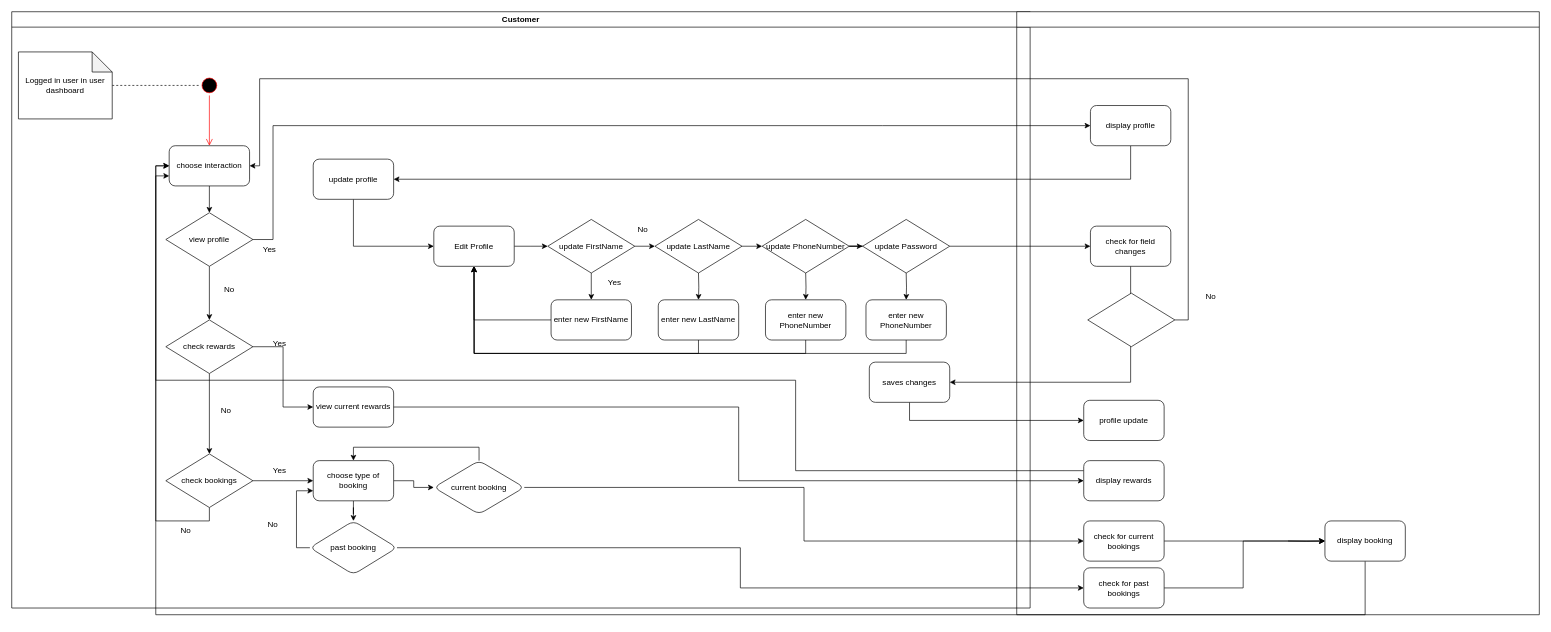
Some shapes in this 1551 by 632 pixel diagram are drawn without their labels. The box of each missing label's shape, as (x1, y1, x2, y2) in pixels:
Field Changes?: (1087, 292, 1175, 347)
System: (1016, 11, 1539, 615)
